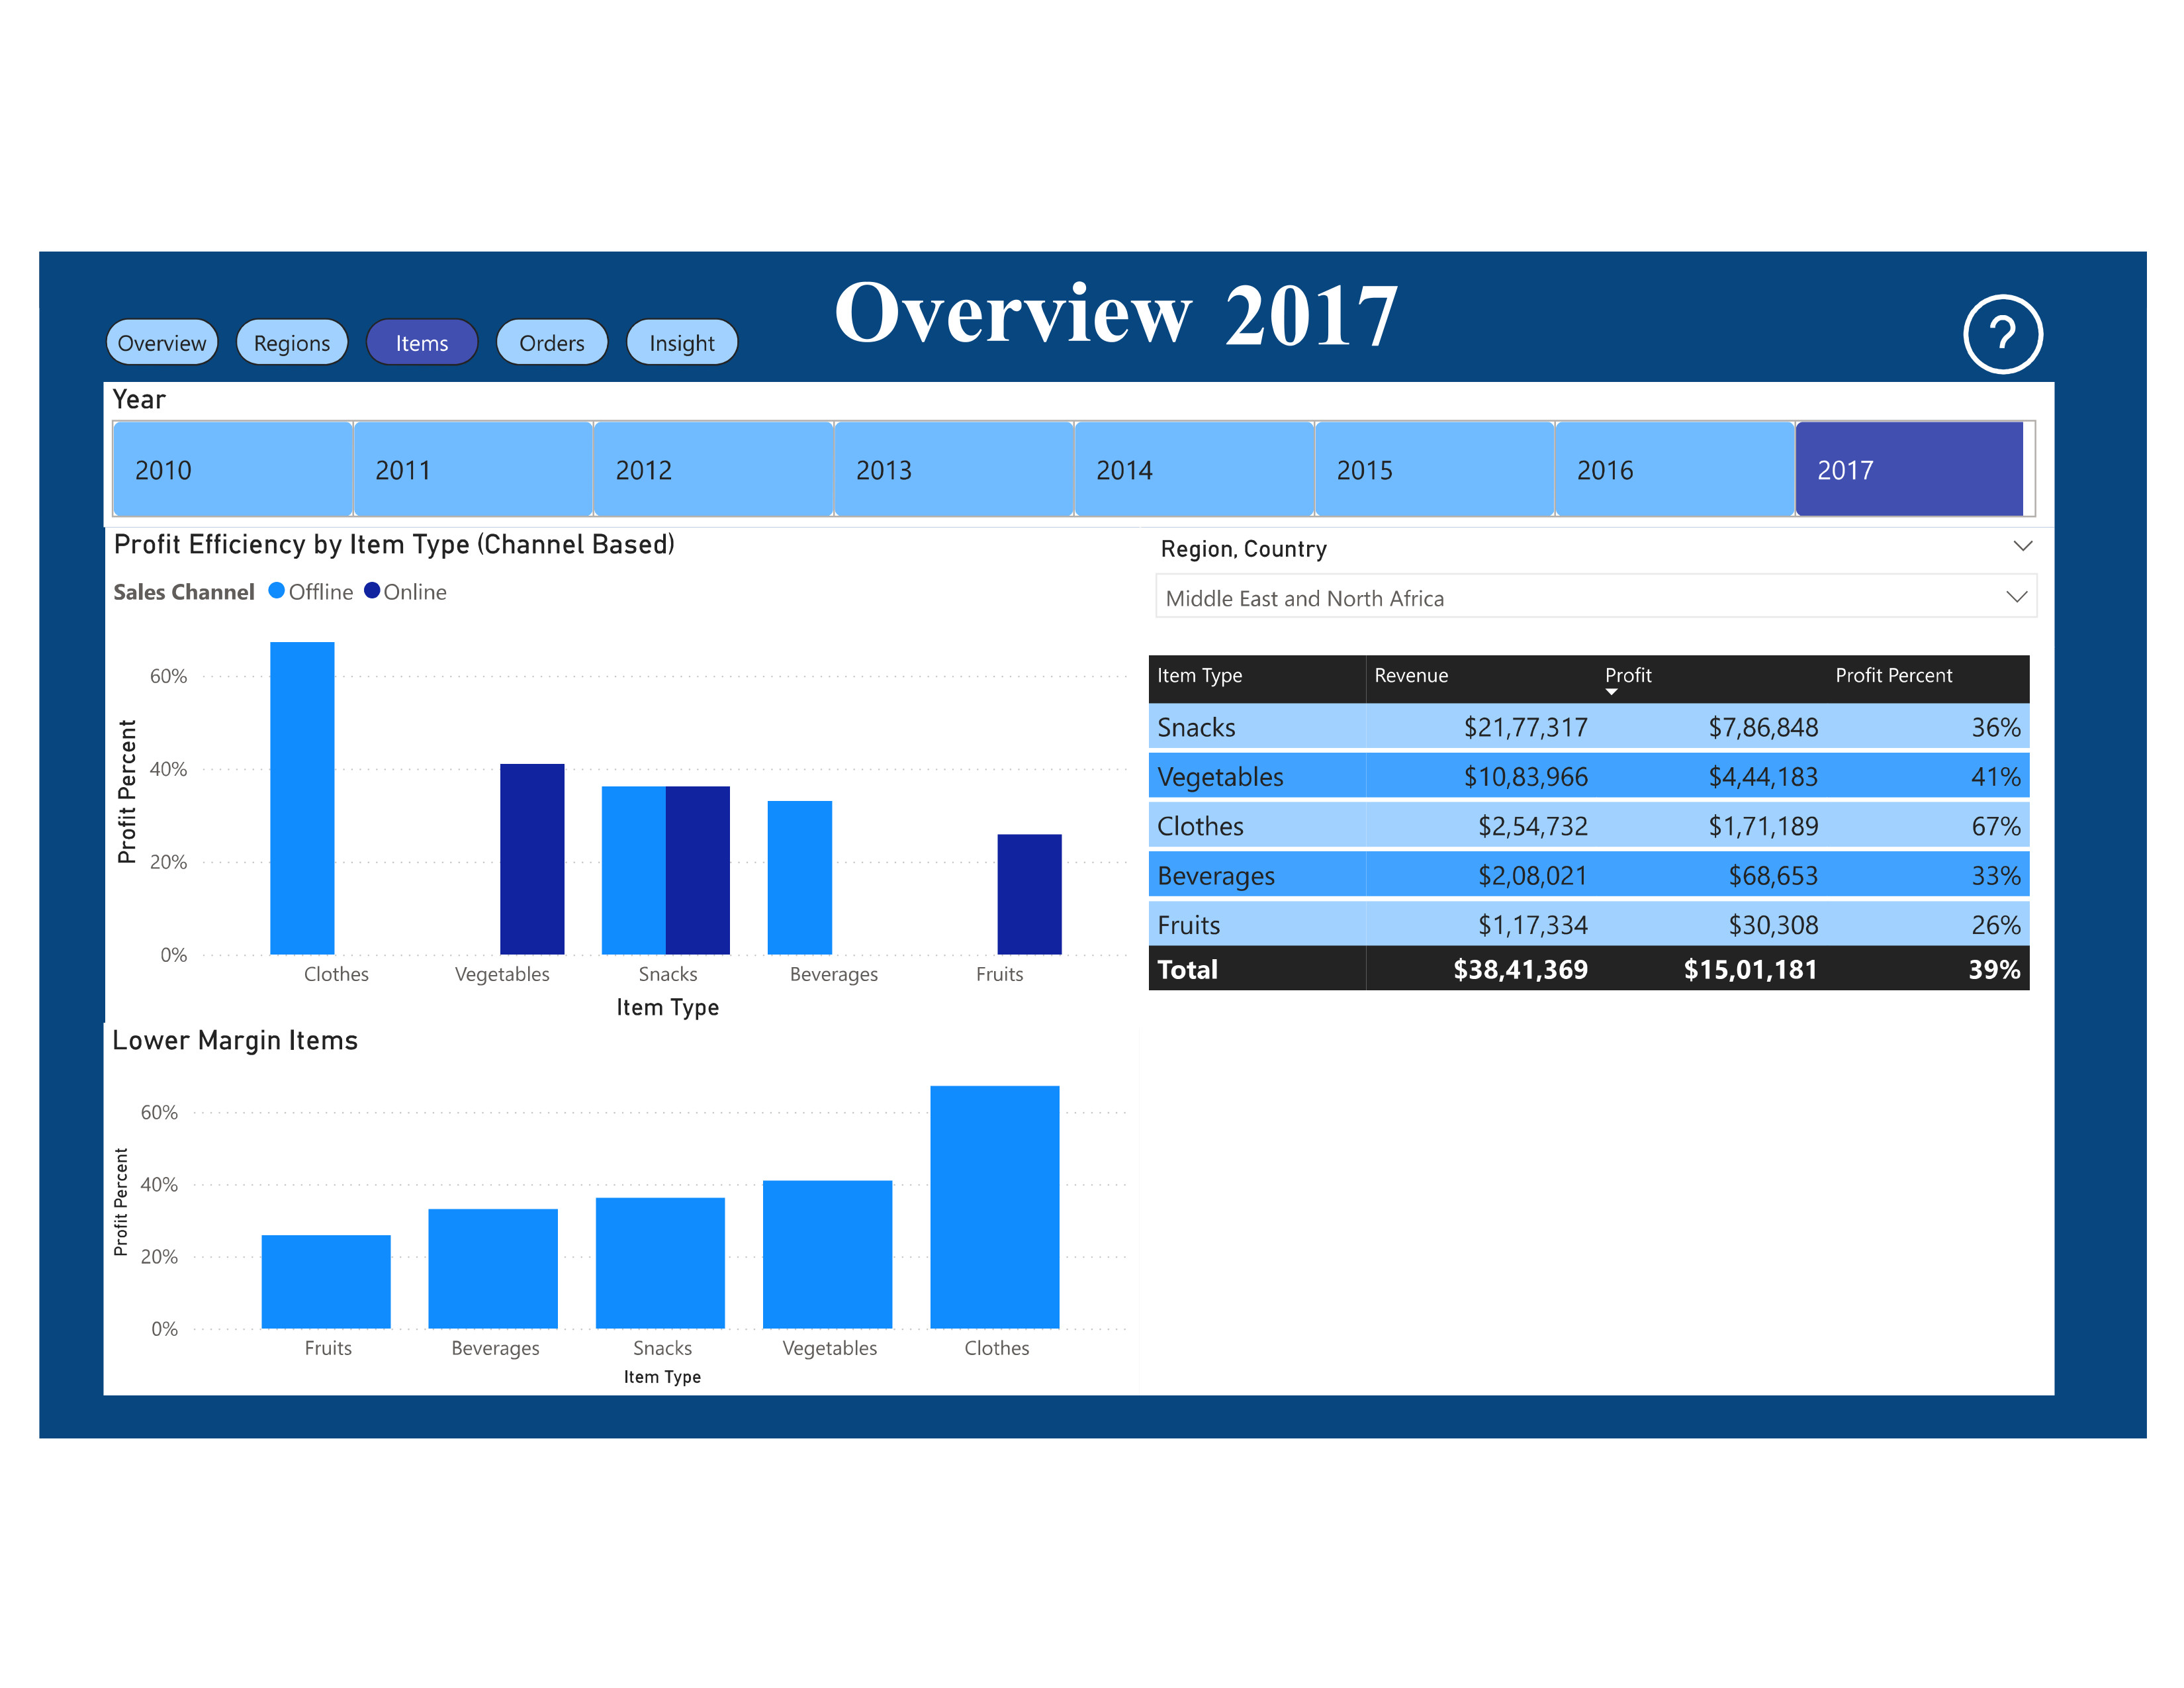

What the dashboard file says about the page in this screenshot:
{"tool":"powerbi","page":{"name":"Items","canvas":[1280,720],"ordinal":2},"visuals":[{"type":"textbox","box":[457.1,0,269.1,100.9],"z":0},{"type":"advancedSlicerVisual","fields":{"Values":["Date.Year"]},"box":[38.6,79.4,1185.3,88],"z":1000},{"type":"pageNavigator","box":[40.5,40.5,385.7,28.6],"z":3000},{"type":"card","fields":{"Values":["Records.This.Year"]},"box":[688.6,0,168.2,67.3],"z":4000},{"type":"clusteredColumnChart","title":"Lower Margin Items","fields":{"Category":["Items.Item Type"],"Y":["Records.Profit Percent"]},"box":[38.6,468.1,629.1,225.5],"z":5000},{"type":"tableEx","title":"Revenue by Region","fields":{"Values":["Items.Item Type","Records.This.Revenue","Records.This.Profit","Records.Profit Percent"]},"box":[667.8,240.5,556.1,453.1],"z":6000},{"type":"clusteredColumnChart","title":"Profit Efficiency by Item Type (Channel Based)","fields":{"Category":["Items.Item Type"],"Series":["Records.Sales Channel"],"Y":["Records.Profit Percent"]},"box":[39.6,166.7,629.4,304.3],"z":7000},{"type":"slicer","fields":{"Values":["Country.Region","Country.Country"]},"box":[667.8,167.5,556.1,73],"z":8000},{"type":"image","box":[0,0,1278.3,722.1],"z":8001},{"type":"actionButton","box":[1161.9,19,61.9,64.3],"z":8002}]}

Visuals, with their boxes on the page's 1280x720 design canvas (x1, y1, x2, y2). These are canvas units, not pixel positions in the 2184x1688 screenshot, which may show the page scaled, cropped or inside an application window:
textbox: [left=457, top=0, right=726, bottom=101]
advancedSlicerVisual - Date.Year: [left=39, top=79, right=1224, bottom=167]
pageNavigator: [left=40, top=40, right=426, bottom=69]
card - Records.This.Year: [left=689, top=0, right=857, bottom=67]
"Lower Margin Items" clusteredColumnChart: [left=39, top=468, right=668, bottom=694]
"Revenue by Region" tableEx: [left=668, top=240, right=1224, bottom=694]
"Profit Efficiency by Item Type (Channel Based)" clusteredColumnChart: [left=40, top=167, right=669, bottom=471]
slicer - Country.Region x Country.Country: [left=668, top=168, right=1224, bottom=240]
image: [left=0, top=0, right=1278, bottom=722]
actionButton: [left=1162, top=19, right=1224, bottom=83]
